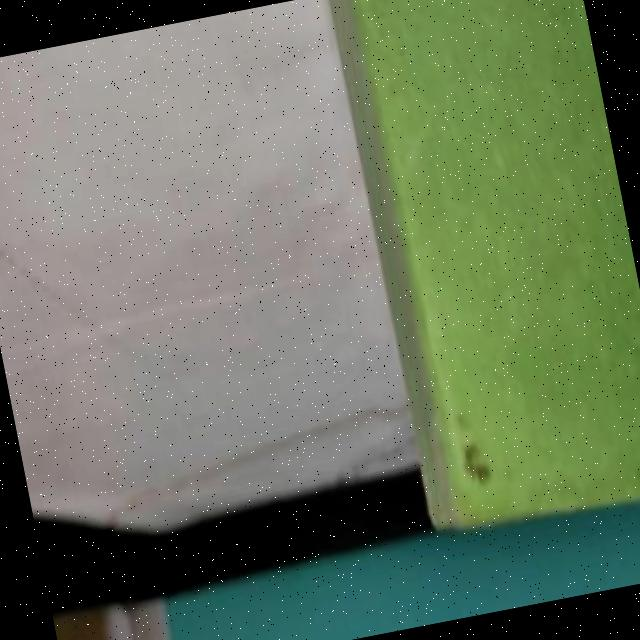greenbox: (325, 0, 640, 532)
